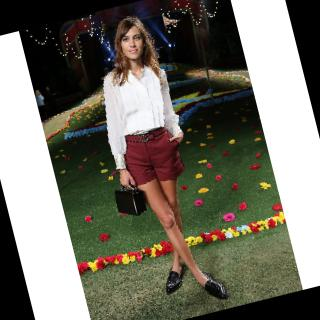loafers: (187, 263, 237, 309), (153, 262, 190, 296)
